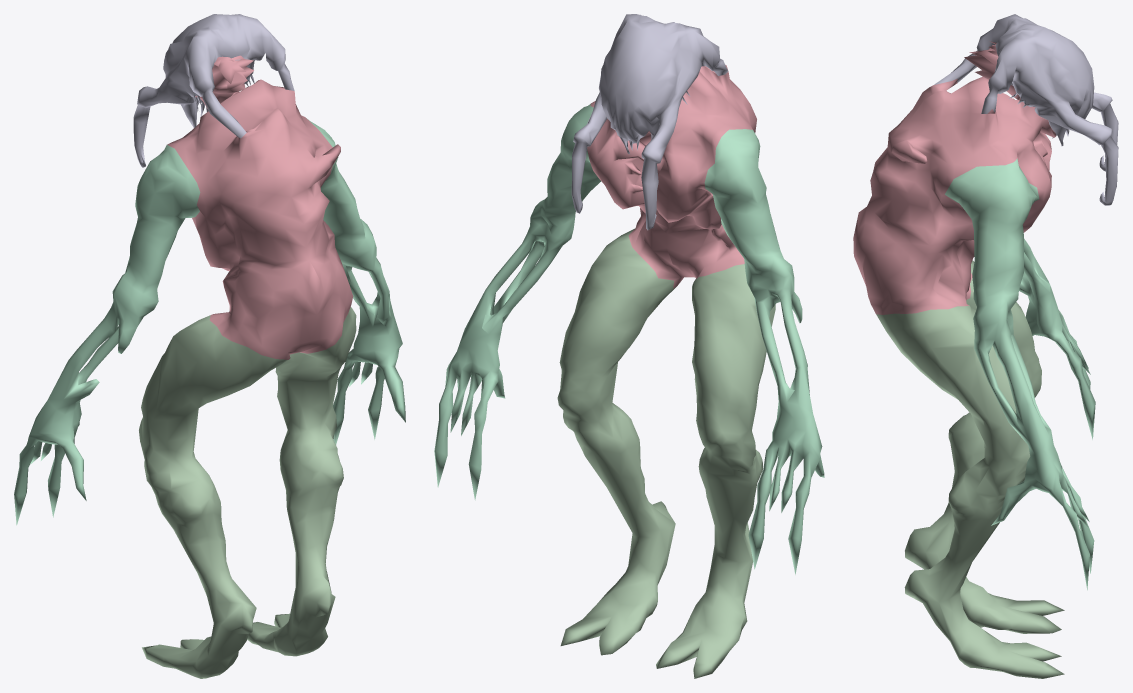
File: zombie_assassin.fbx
3 renders of one model, left to right at view 1: azimuth 30°, elevation 25°; view 2: azimuth 150°, elevation 25°; view 3: azimuth 270°, elevation 25°, orthographic. The views are drawn at different scales.
Visible parts, largest first — view 1: zombie_assassin_reference_lod0; view 2: zombie_assassin_reference_lod0; view 3: zombie_assassin_reference_lod0.
Boxes of the visible parts, x1,y1,x2,y2 form: zombie_assassin_reference_lod0: [14, 14, 405, 678]; zombie_assassin_reference_lod0: [434, 14, 824, 678]; zombie_assassin_reference_lod0: [853, 14, 1118, 678].
Bounding box in the file's own units: 51 × 82.69 × 32.15.
